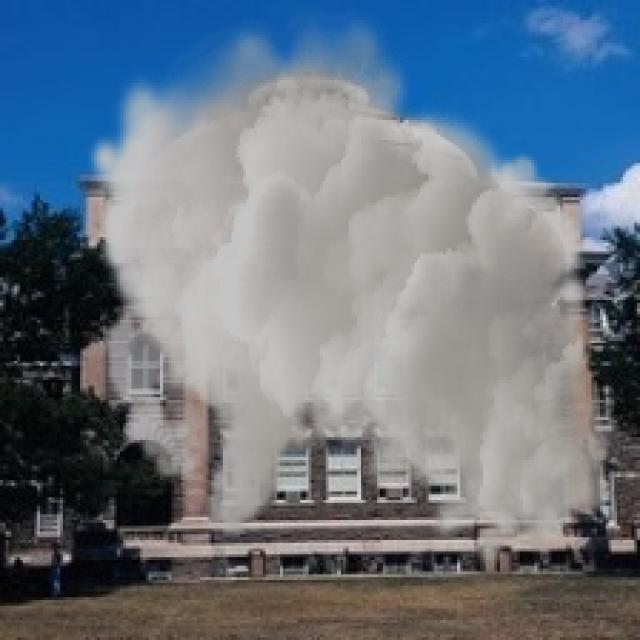smoke: (86, 6, 614, 574)
